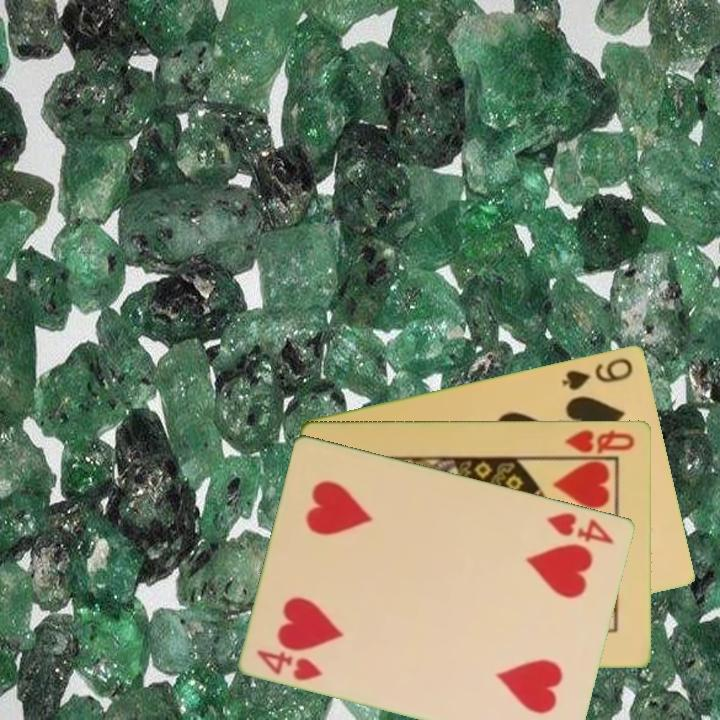4h: (543, 508, 617, 547), (253, 646, 326, 684)
9s: (558, 354, 636, 393)
Qh: (562, 425, 637, 456)
